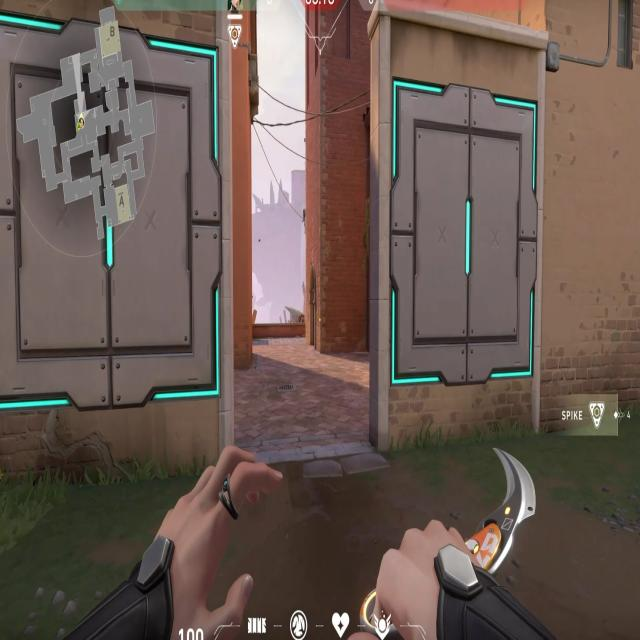Mid_Wall: (0, 0, 242, 481), (373, 0, 547, 440)
